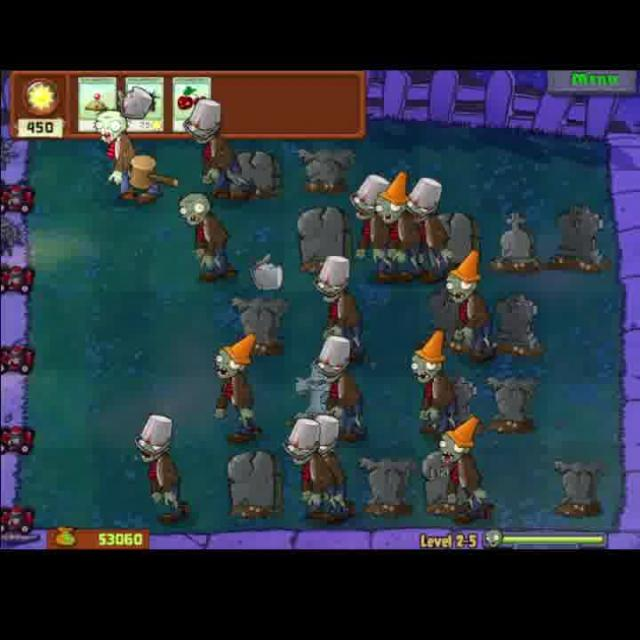coins: (130, 410, 189, 524), (207, 330, 268, 439), (431, 412, 488, 518), (288, 415, 345, 520), (172, 188, 233, 286), (185, 95, 245, 194), (312, 330, 367, 436), (441, 247, 493, 357), (407, 166, 453, 278), (314, 252, 362, 358), (348, 173, 392, 282), (406, 335, 452, 436), (95, 102, 144, 193), (378, 170, 414, 281)
